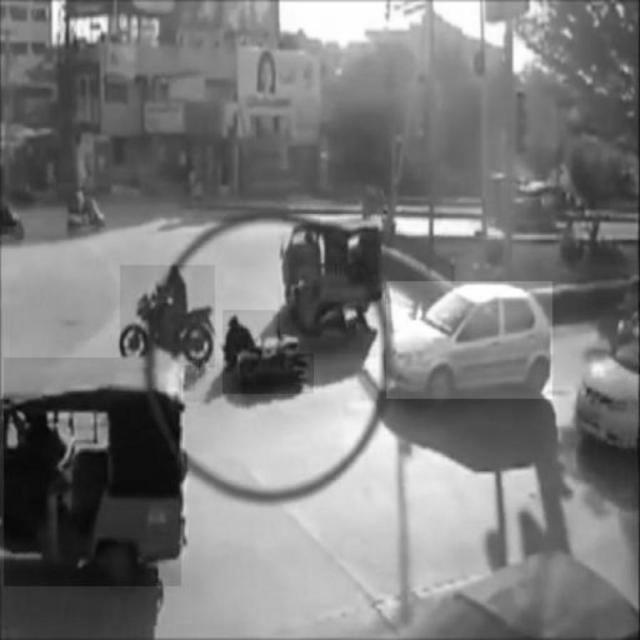vehicle: (5, 358, 182, 586), (387, 281, 553, 399), (278, 218, 378, 324), (121, 265, 215, 367), (223, 311, 314, 394), (281, 277, 363, 354)
